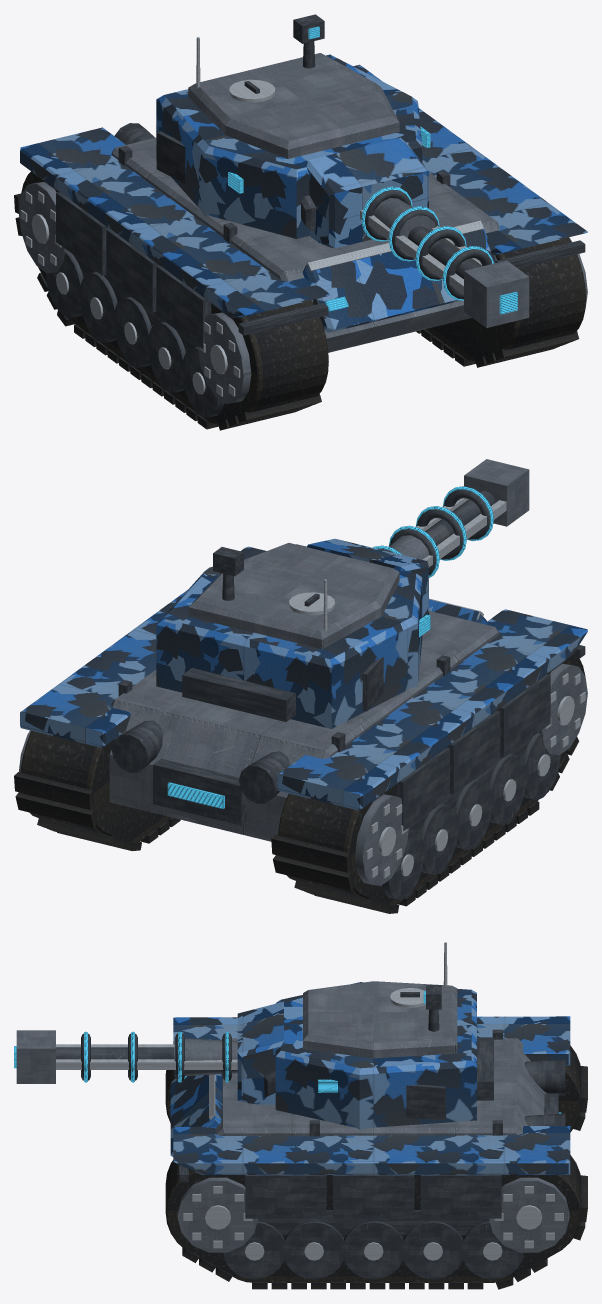
File: bulwark-heavy-tank.glb
3 renders of one model, top to bottom at view 1: azimuth 30°, elevation 25°; view 2: azimuth 150°, elevation 25°; view 3: azimuth 270°, elevation 25°, orthographic. The views are drawn at different scales.
Parts seen in each view (by area): view 1: fender, rear_drive, suspension_beam, track_belt, wheel_hub_0, bow_glow; view 2: fender, rear_drive, suspension_beam, track_belt, wheel_hub_0, bow_glow; view 3: fender, suspension_beam, rear_drive, track_belt, wheel_hub_0, bow_glow.
Boxes of the visible parts, x1,y1,x2,y2 form: fender: (20, 54, 587, 332); rear_drive: (18, 53, 587, 403); suspension_beam: (45, 14, 585, 418); track_belt: (14, 171, 585, 430); wheel_hub_0: (20, 37, 483, 396); bow_glow: (228, 26, 517, 314); fender: (20, 538, 587, 810); rear_drive: (19, 459, 587, 885); suspension_beam: (111, 489, 585, 899); track_belt: (14, 654, 585, 913); wheel_hub_0: (289, 498, 585, 878); bow_glow: (167, 486, 493, 808); fender: (170, 982, 570, 1174); suspension_beam: (56, 985, 565, 1279); rear_drive: (16, 981, 569, 1252); track_belt: (165, 1045, 587, 1289); wheel_hub_0: (56, 942, 563, 1260); bow_glow: (14, 991, 561, 1113).
Bounding box in the file's own units: 5.38 × 4.21 × 8.78.
6 materials, 6 textured.
